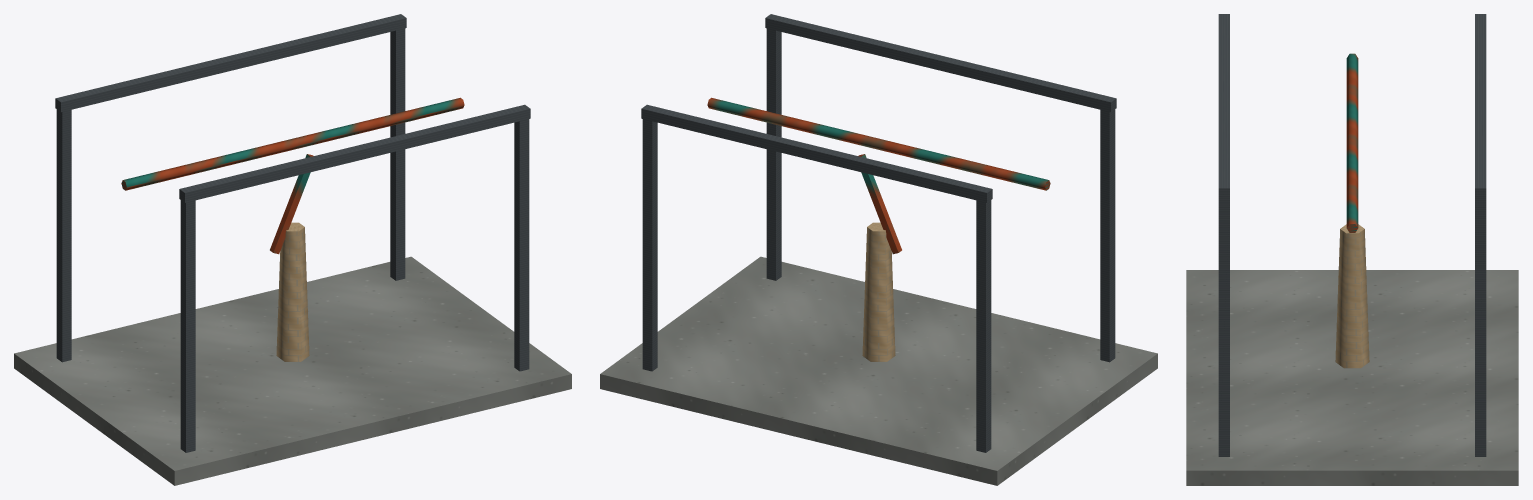
The model's file is service-substation-bay.lod2.gltf.
3 renders of one model, left to right at view 1: azimuth 30°, elevation 25°; view 2: azimuth 150°, elevation 25°; view 3: azimuth 270°, elevation 25°, orthographic. The views are drawn at different scales.
Visible parts, largest first — view 1: service-substation-bay; view 2: service-substation-bay; view 3: service-substation-bay.
Boxes of the visible parts, x1,y1,x2,y2 form: service-substation-bay: (14, 14, 571, 485); service-substation-bay: (600, 14, 1157, 485); service-substation-bay: (1186, 14, 1518, 485).
Size of the model in its own units: 5 by 3.31 by 3.5.
Materials: 4 (4 with a texture image).
